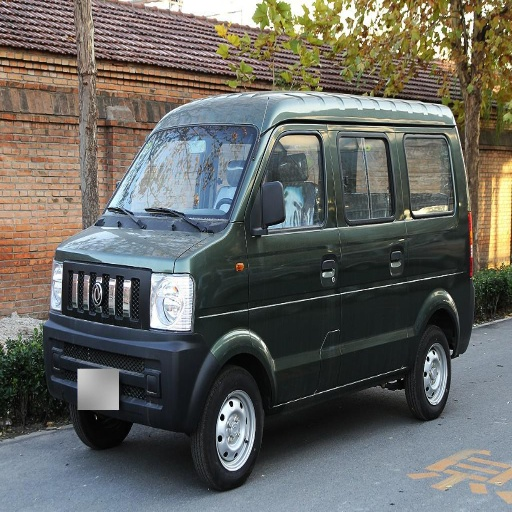front_bumper: (44, 258, 206, 424)
front_glass: (108, 110, 261, 230)
front_left_door: (245, 125, 345, 401)
trunk: (434, 233, 462, 319)
